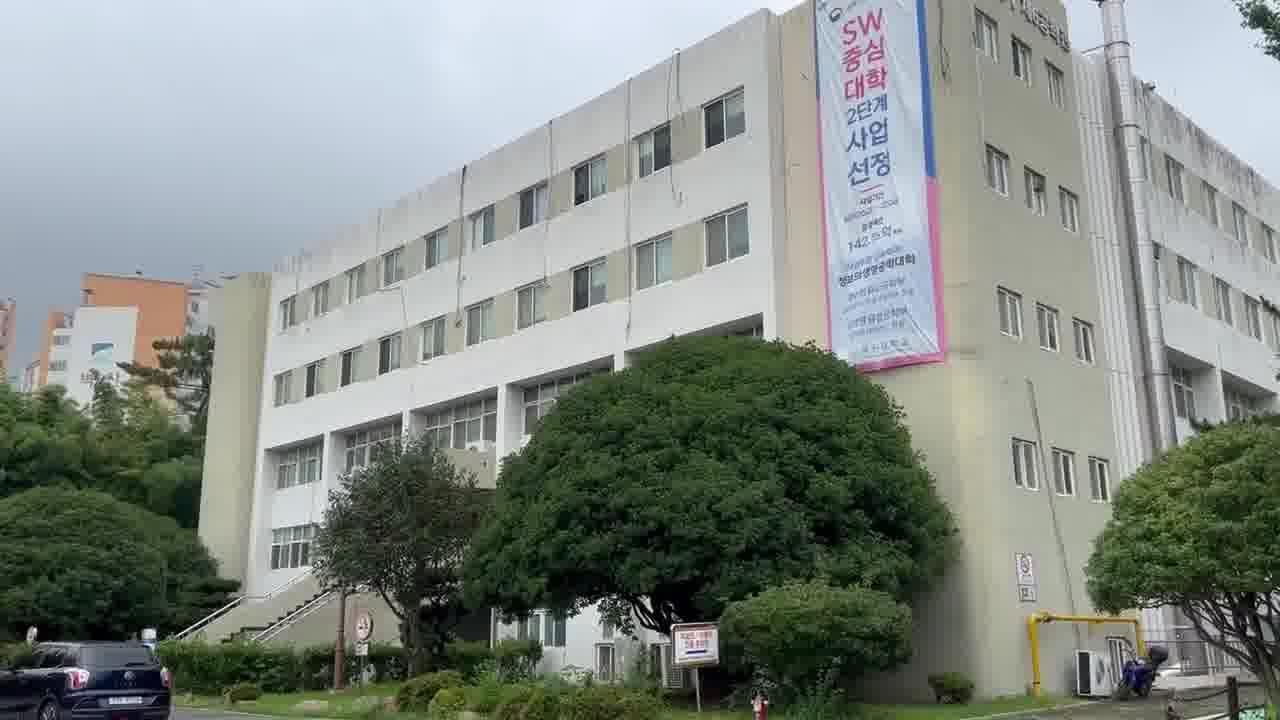building: (197, 58, 800, 338)
